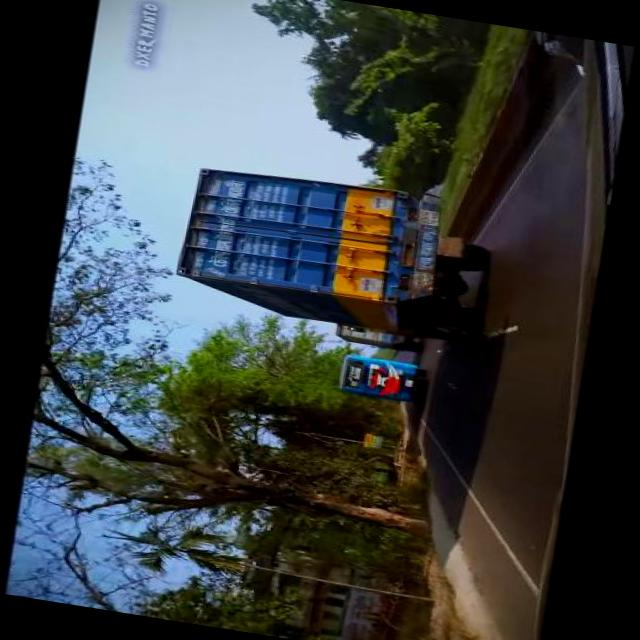bus: (334, 352, 426, 406)
truck: (166, 156, 493, 350), (328, 324, 423, 356)
